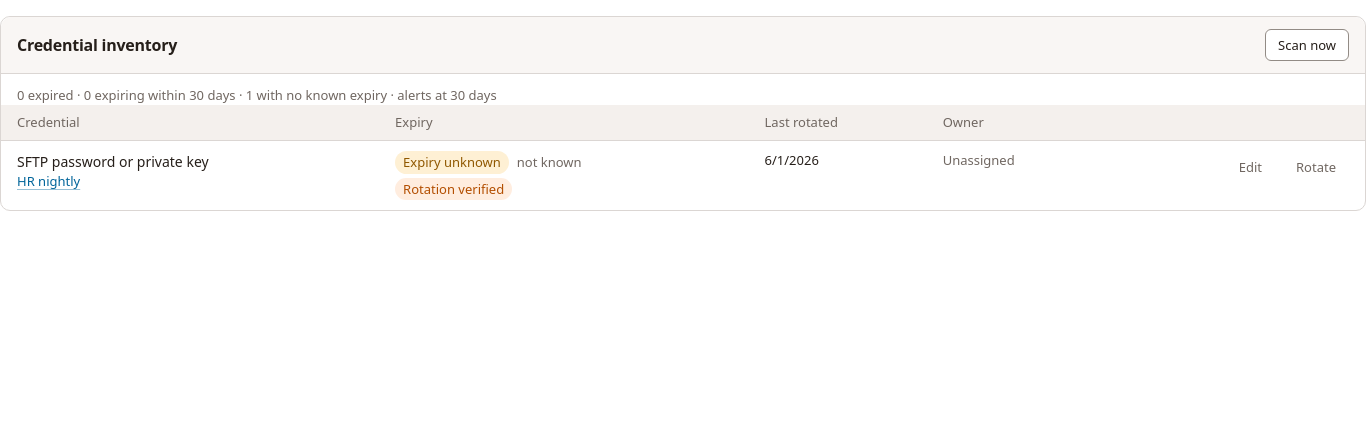
Test case: CredentialsTab › offers cut-over only after a passed test, then complete or roll back
Click the button "Rotate" at (1316,167), box [1283, 151, 1349, 183]
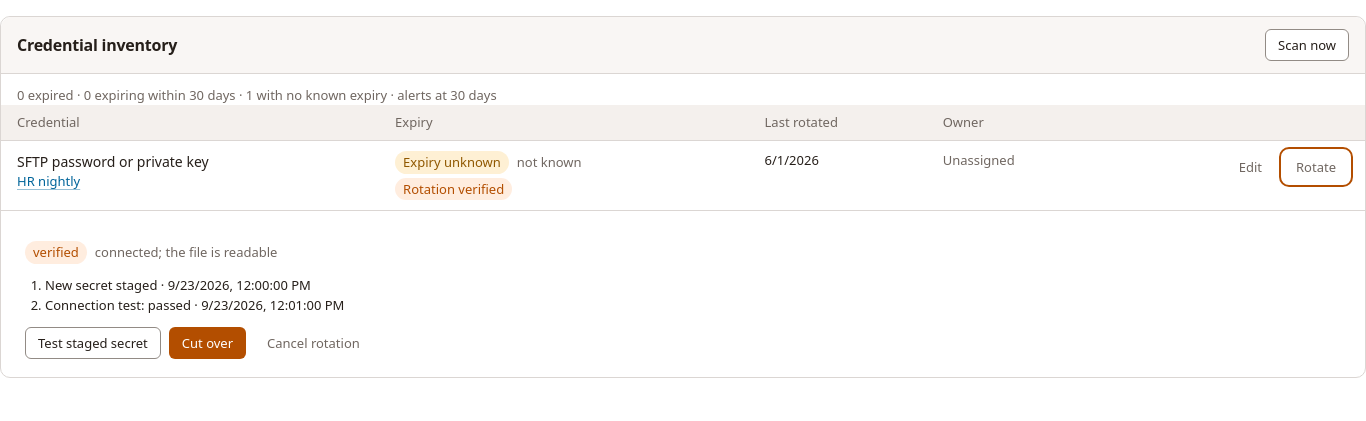
Check: the list item "Connection test: passed" is shown, box [45, 296, 344, 314]
Click the button "Cut over" at (207,343), box [169, 327, 246, 359]
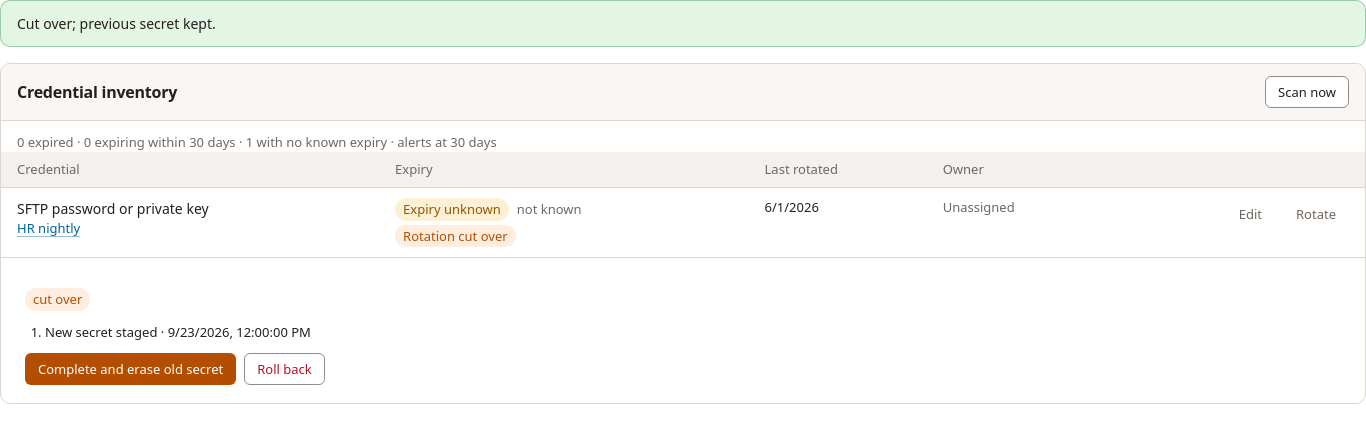
Check: the button "Complete and erase old secret" is shown, box [25, 353, 236, 385]
Check: the button "Roll back" is shown, box [244, 353, 325, 385]
